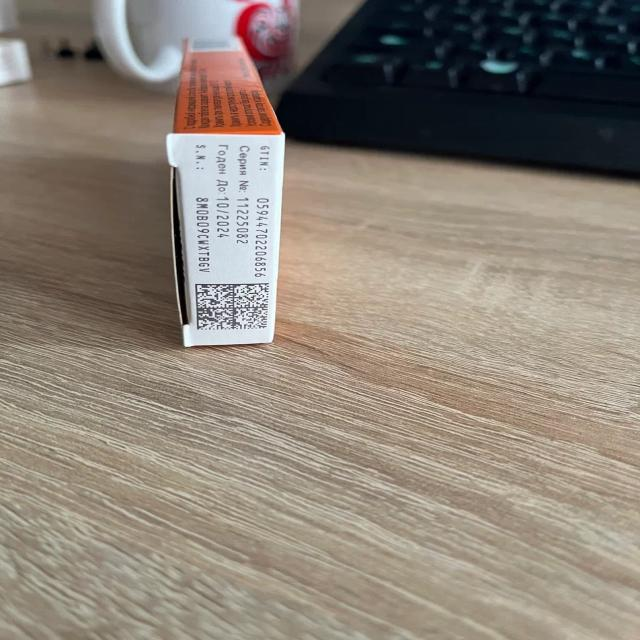datamatrix: (195, 282, 271, 333)
